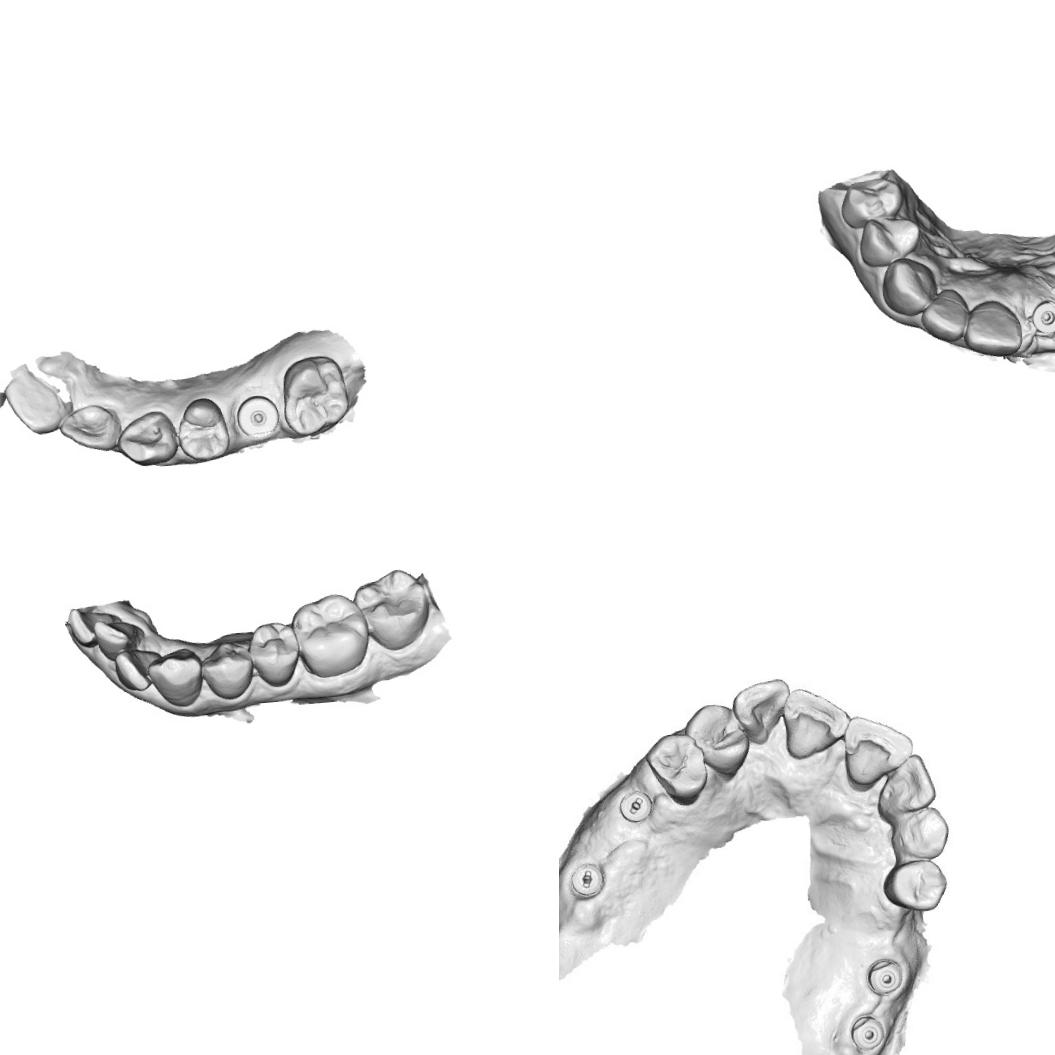canine: (112, 406, 178, 470), (144, 644, 206, 710), (878, 254, 938, 318)
implant: (232, 390, 282, 444), (848, 1013, 886, 1052), (866, 958, 904, 994), (1028, 297, 1055, 334)
implant_minus: (567, 856, 605, 898), (618, 788, 650, 820)
incisor: (835, 710, 916, 790), (0, 363, 71, 438), (728, 676, 793, 748), (868, 754, 936, 820), (777, 688, 844, 753), (959, 296, 1024, 359), (53, 400, 124, 454), (110, 641, 167, 701), (916, 286, 970, 344), (89, 605, 139, 656), (64, 599, 116, 648)
molar: (348, 569, 436, 655), (288, 589, 370, 681), (276, 350, 354, 440)
premolar: (640, 727, 708, 810), (681, 699, 747, 780), (196, 632, 260, 702), (172, 393, 233, 465), (244, 617, 300, 690), (882, 854, 952, 912), (837, 175, 907, 230), (856, 212, 922, 268), (888, 804, 952, 860)
